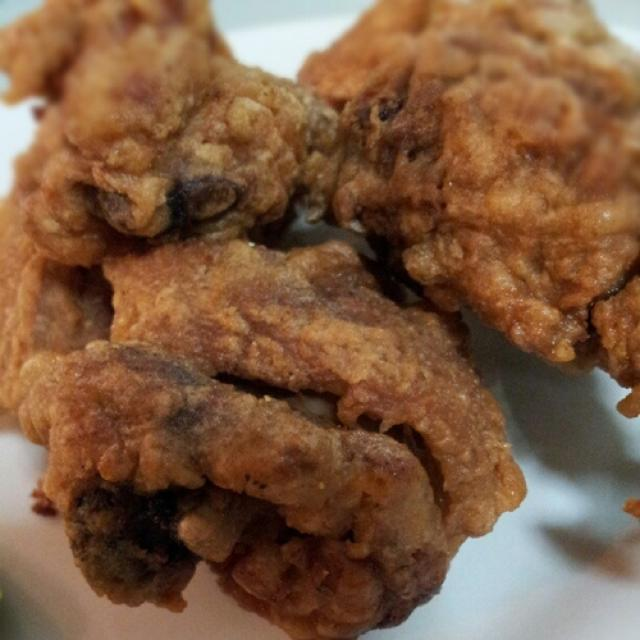鸡肉料理 含炸鸡: (13, 5, 613, 613)
